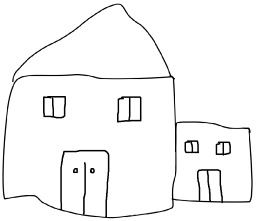big_house: (0, 1, 260, 221)
closed_window: (104, 87, 150, 125), (37, 90, 68, 126), (210, 138, 236, 159), (181, 138, 201, 157)
door: (56, 145, 124, 219), (191, 164, 234, 206)
roof: (5, 1, 181, 82)
single_line_roof: (172, 113, 256, 137)
wall: (3, 70, 182, 220)
